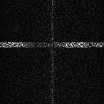wifi: (1, 41, 104, 47)
